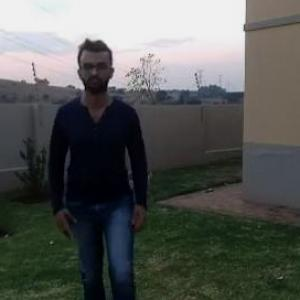follow: (48, 32, 149, 299)
